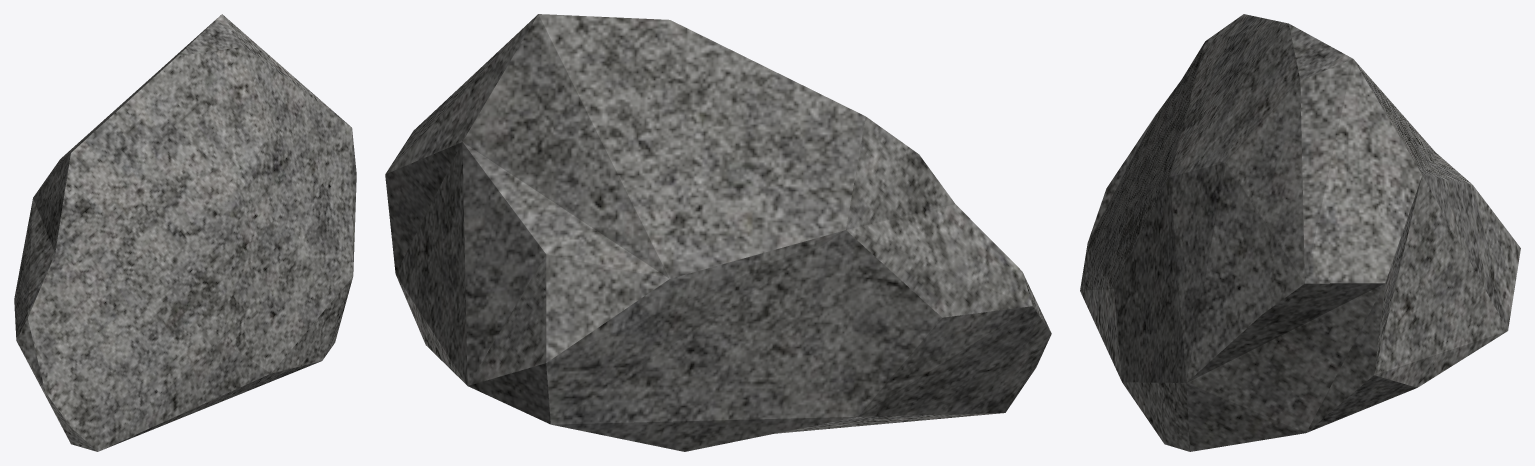
Rendered from roccia_piccola_3.fbx.
3 renders of one model, left to right at view 1: azimuth 30°, elevation 25°; view 2: azimuth 150°, elevation 25°; view 3: azimuth 270°, elevation 25°, orthographic. The views are drawn at different scales.
Visible parts, largest first — view 1: roccia_piccola_3; view 2: roccia_piccola_3; view 3: roccia_piccola_3.
Boxes of the visible parts, x1,y1,x2,y2 form: roccia_piccola_3: [14, 14, 356, 451]; roccia_piccola_3: [385, 14, 1051, 451]; roccia_piccola_3: [1080, 14, 1520, 451].
Bounding box in the file's own units: 24.71 × 18.03 × 19.23.
